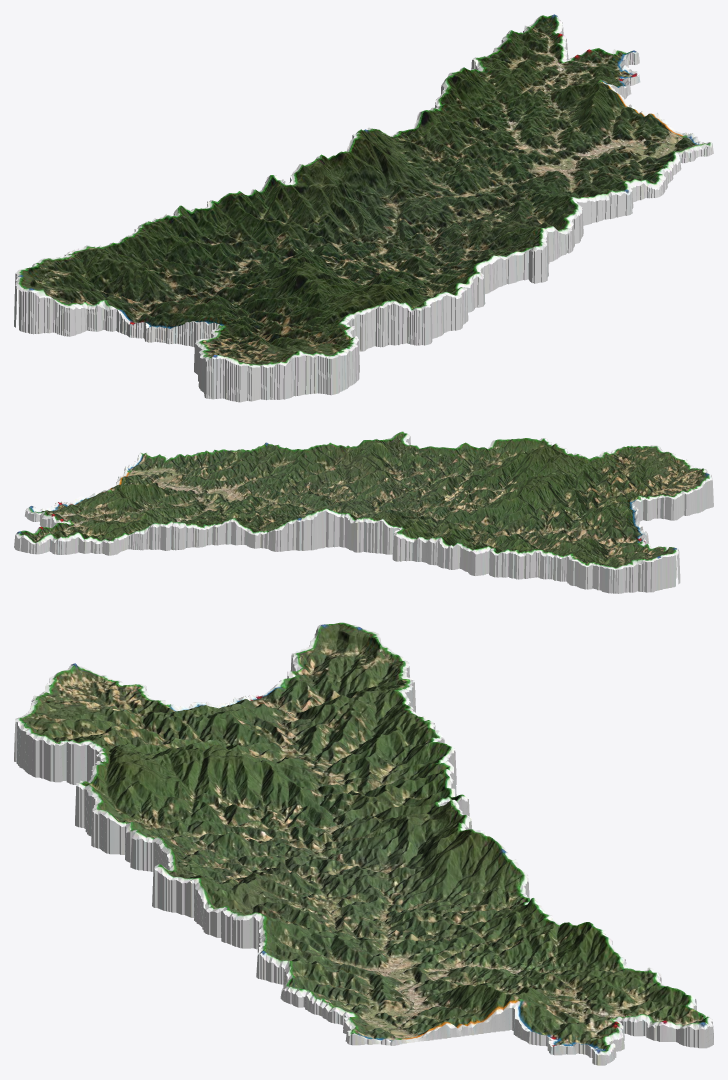
3 views of the same model, one above another, from view 1: azimuth 30°, elevation 25°; view 2: azimuth 150°, elevation 25°; view 3: azimuth 270°, elevation 25° (orthographic). The views are drawn at different scales.
Size of the model in its own units: 1 by 0.0626 by 0.7427.
1 material, 1 textured.
